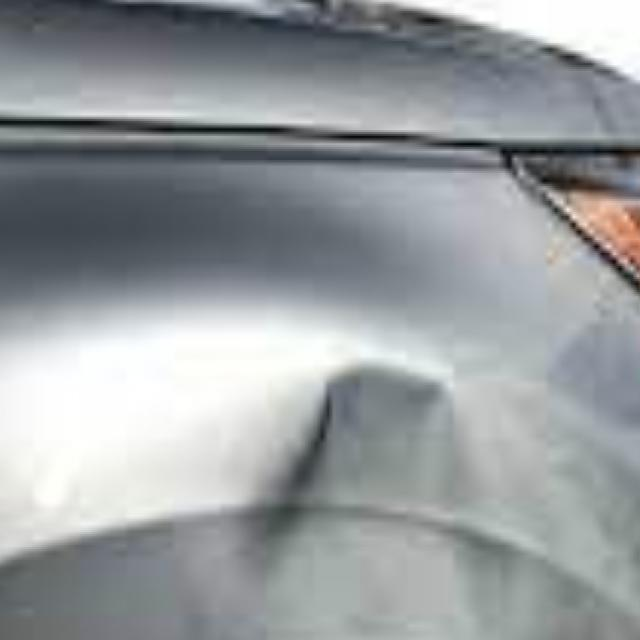dents: (268, 331, 516, 613)
